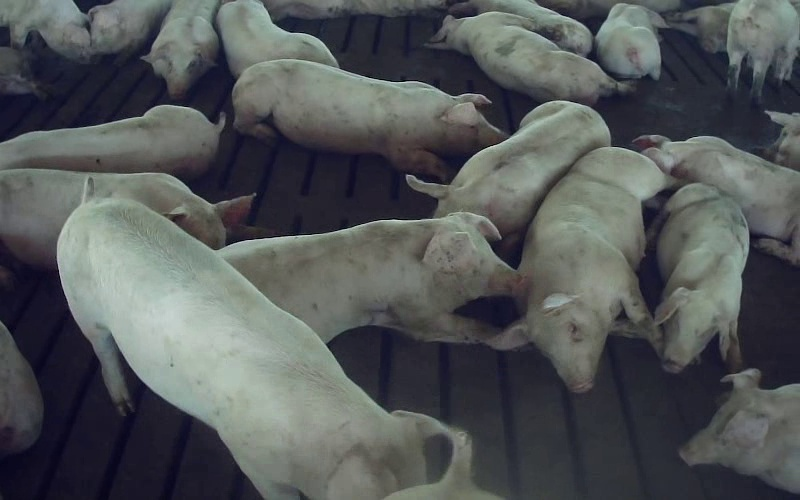pig: (58, 189, 444, 499), (491, 147, 672, 392), (218, 213, 519, 342), (406, 101, 609, 235), (0, 170, 250, 268), (633, 135, 799, 266), (426, 12, 633, 105), (652, 183, 748, 372), (0, 105, 224, 178), (679, 369, 799, 493), (216, 0, 338, 77), (449, 0, 592, 56), (595, 3, 667, 79)
